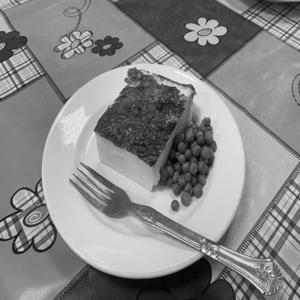casserole: (85, 77, 221, 210)
